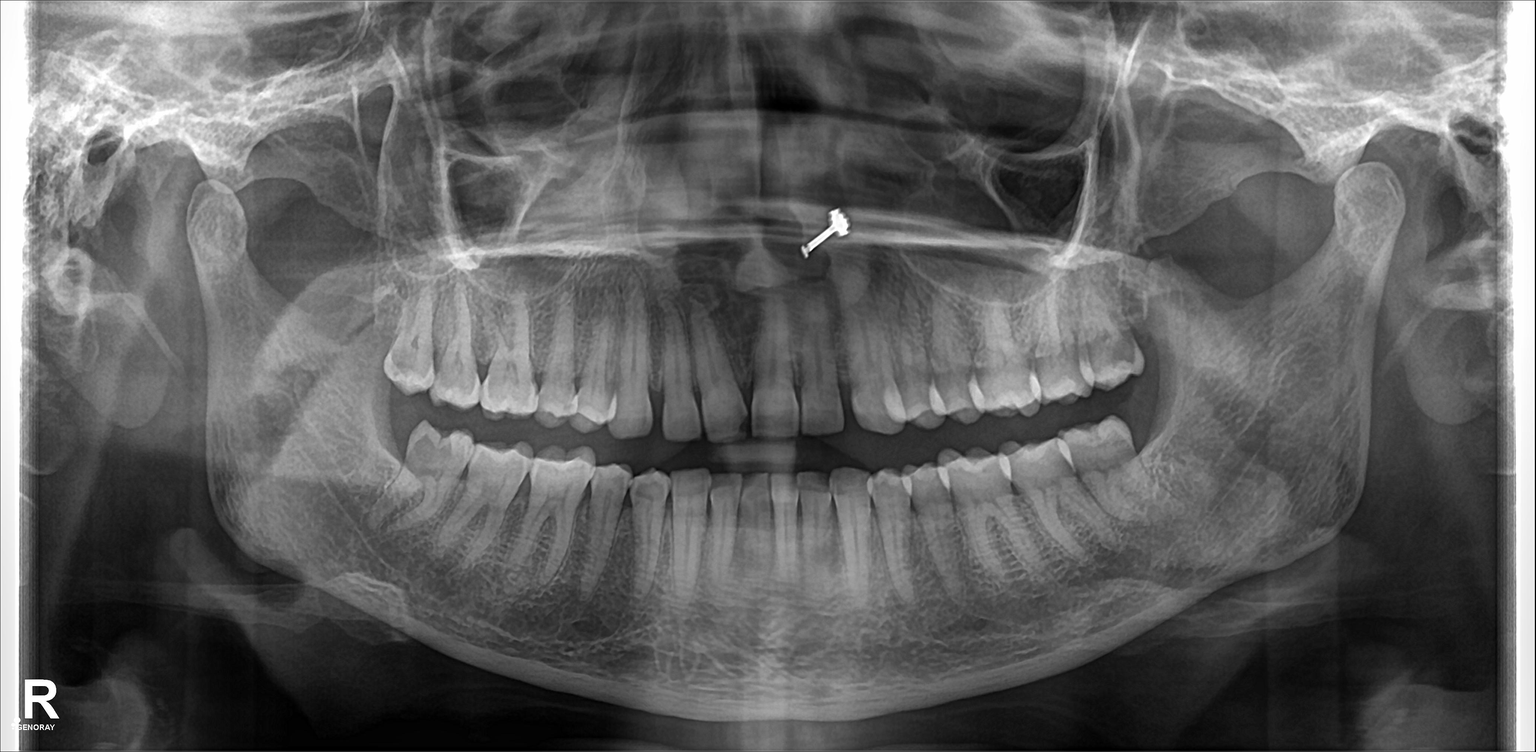Dental Caries: (1080, 336, 1147, 374), (410, 437, 466, 481)
Missing Tooth: (1121, 391, 1170, 484), (367, 396, 405, 490)
